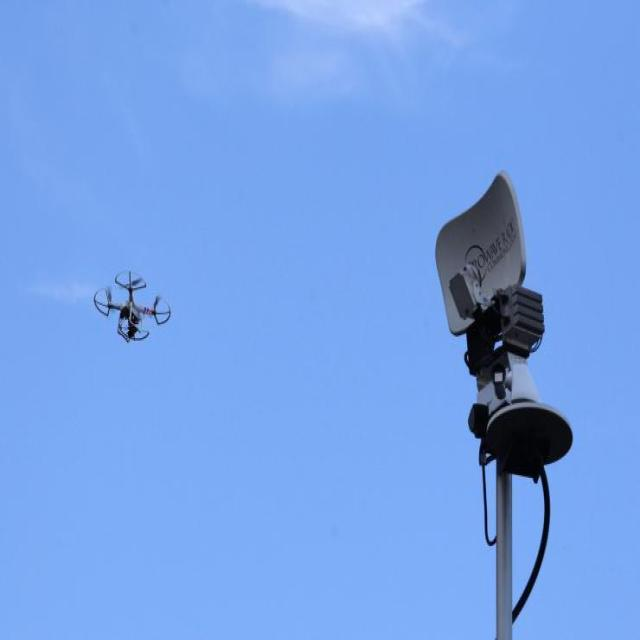drone: (92, 266, 174, 344)
